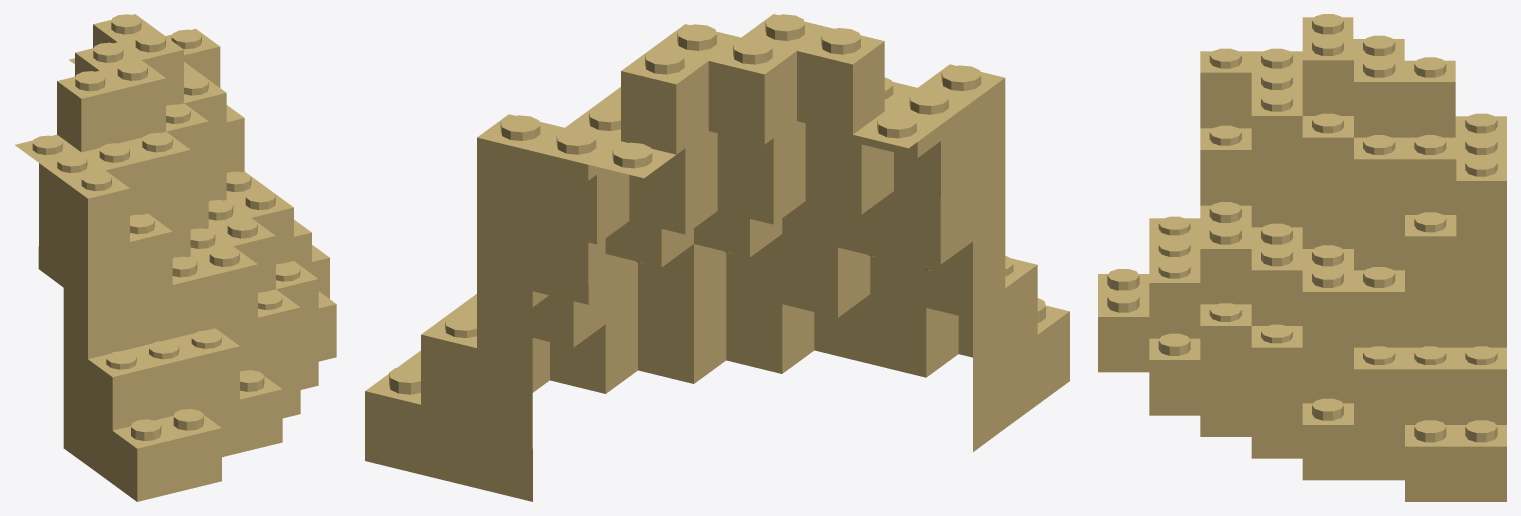
Rendered from Rock_2.fbx.
3 renders of one model, left to right at view 1: azimuth 30°, elevation 25°; view 2: azimuth 150°, elevation 25°; view 3: azimuth 270°, elevation 25°, orthographic. The views are drawn at different scales.
Parts seen in each view (by area): view 1: Part.014; view 2: Part.014; view 3: Part.014.
Part boxes in pixels (x1,y1,x2,y2): Part.014: [15, 14, 336, 501]; Part.014: [365, 14, 1069, 501]; Part.014: [1098, 14, 1506, 501].
Size of the model in its own units: 6392 by 5891 by 6392.
